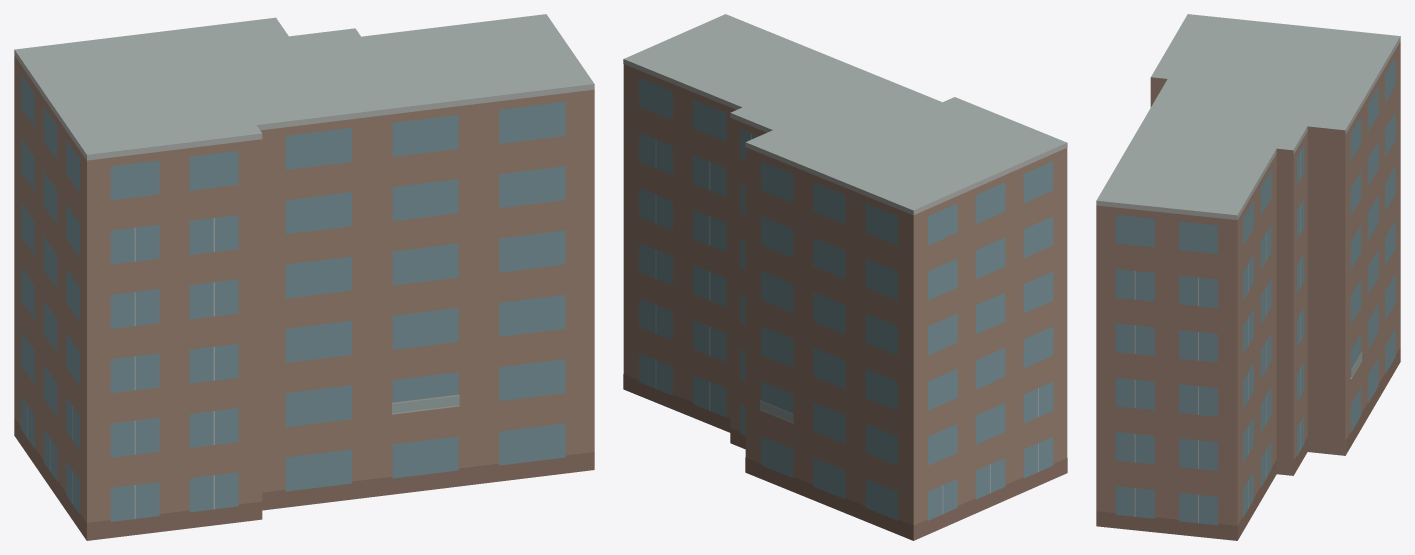
Rendered from survey-upis-32991064.glb.
The picture shows the model from 3 angles, left to right: view 1: azimuth 30°, elevation 25°; view 2: azimuth 150°, elevation 25°; view 3: azimuth 270°, elevation 25°; orthographic projection. The views are drawn at different scales.
Visible parts, largest first — view 1: survey-upis-32991064.tmp; view 2: survey-upis-32991064.tmp; view 3: survey-upis-32991064.tmp.
Boxes of the visible parts, box(x1,y1,x2,y2) form: survey-upis-32991064.tmp: box(14, 14, 594, 540); survey-upis-32991064.tmp: box(623, 14, 1067, 540); survey-upis-32991064.tmp: box(1096, 14, 1400, 540).
Bounding box in the file's own units: 22.02 × 16.6 × 14.07.
